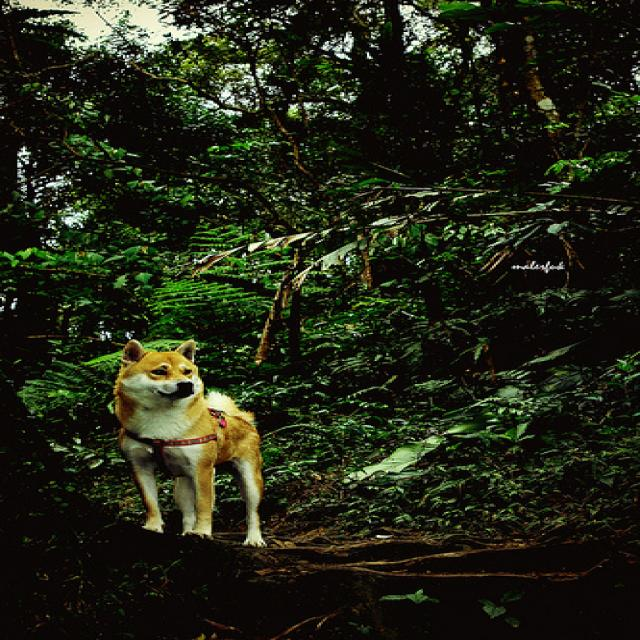dog: (121, 337, 196, 398)
